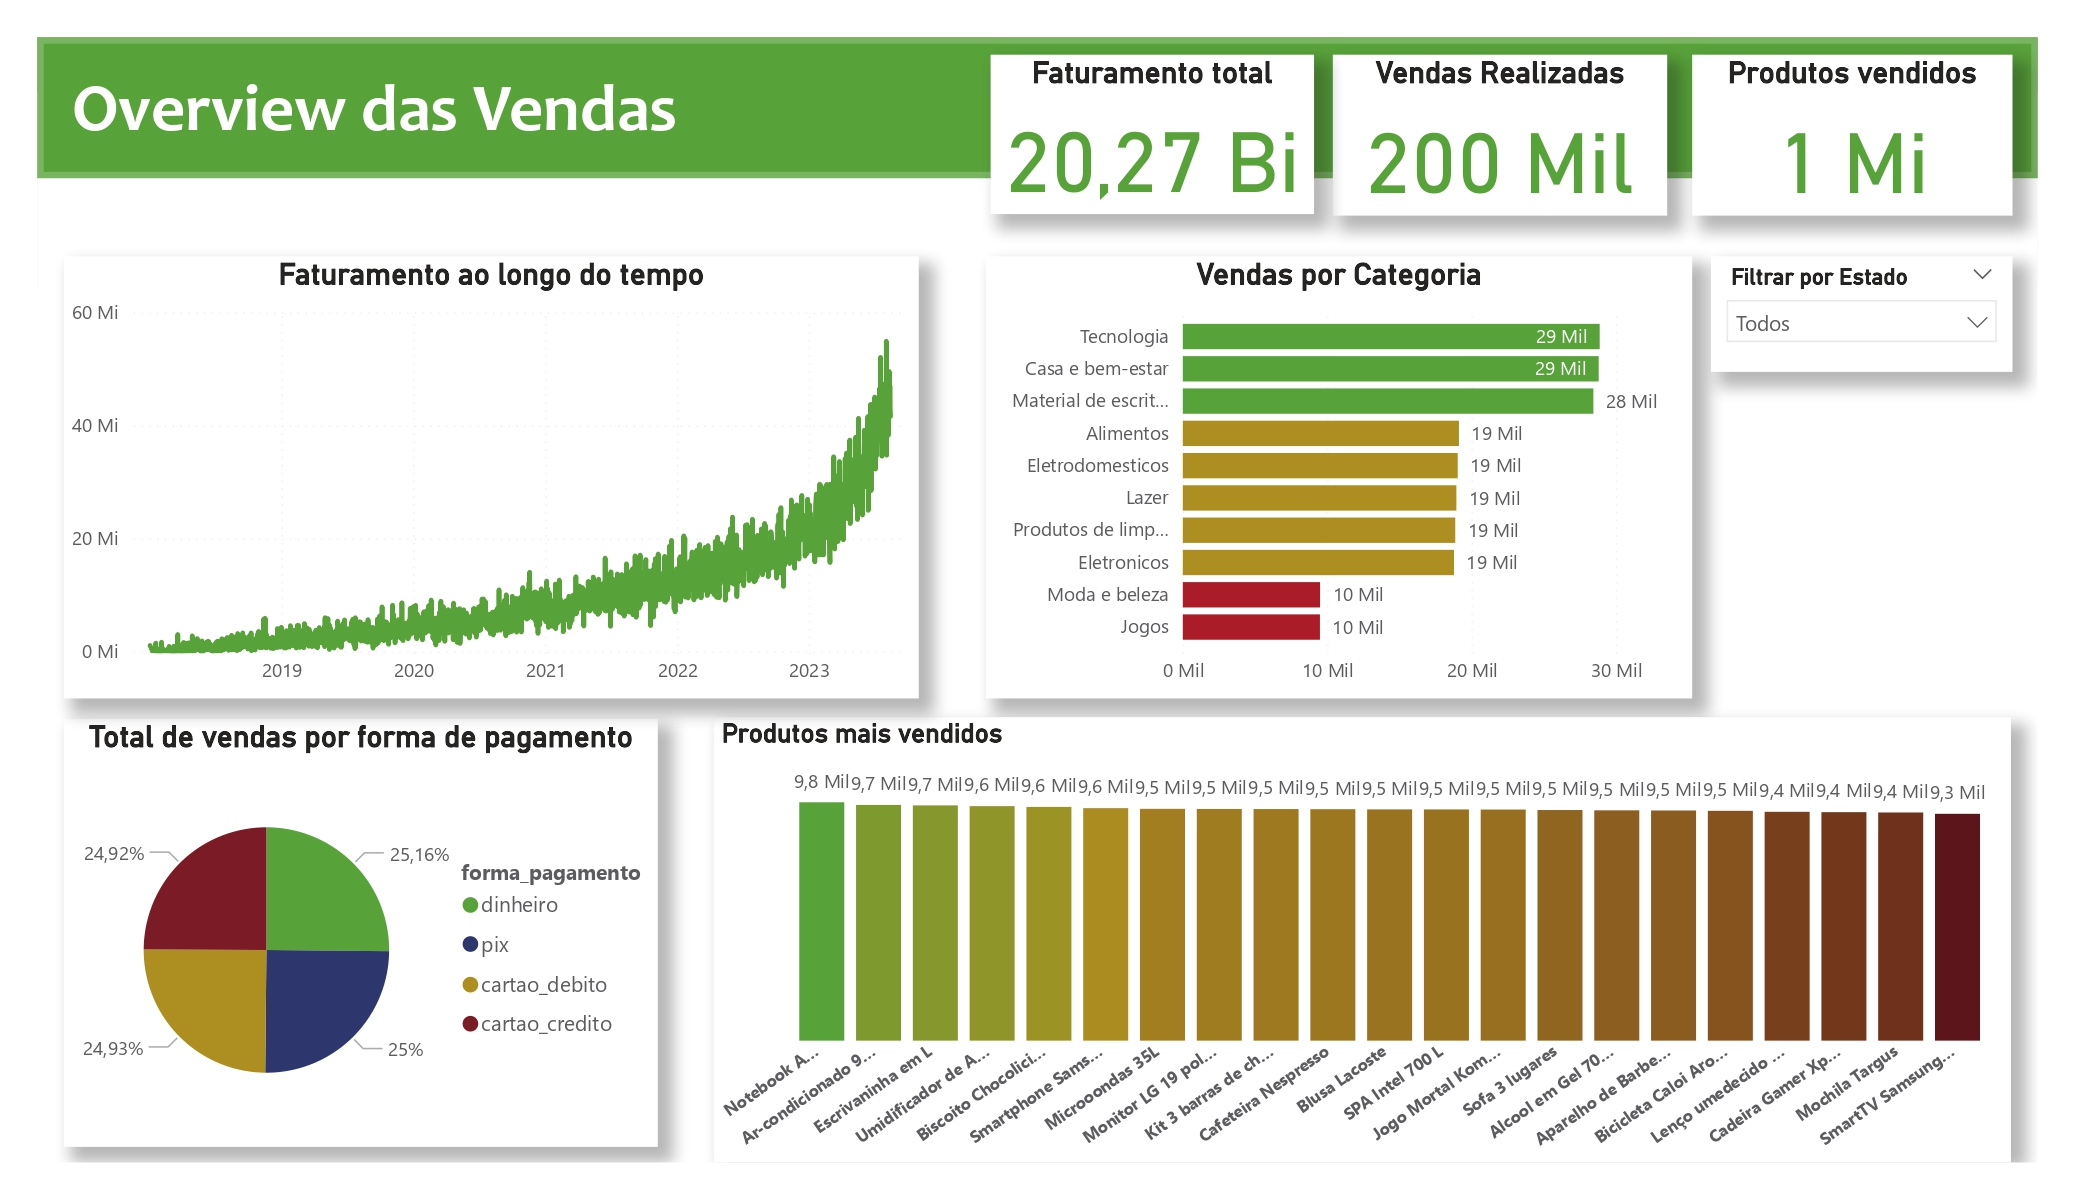

This screenshot's page, from the dashboard's own definition file:
{"tool":"powerbi","page":{"name":"Vendas","canvas":[1280,720],"ordinal":1},"visuals":[{"type":"shape","box":[0,0,1280,90],"z":0},{"type":"pieChart","title":"Total de vendas por forma de pagamento","fields":{"Category":["public vendas.forma_pagamento"],"Y":["public produtos.VendasRealizadas"]},"box":[17.1,435.7,380,274.3],"z":1000},{"type":"barChart","title":"Vendas por Categoria","fields":{"Category":["public produtos.categoria_produto"],"Y":["public produtos.VendasRealizadas"]},"box":[607.1,140,451.4,282.9],"z":2000},{"type":"card","title":"Vendas Realizadas","fields":{"Values":["public produtos.VendasRealizadas"]},"box":[828.6,11.4,214.3,102.9],"z":3000},{"type":"clusteredColumnChart","title":"Produtos mais vendidos","fields":{"Category":["public produtos.nome_produto"],"Y":["public produtos.QuantidadeVendas"]},"box":[433.3,435,830,285],"z":4000},{"type":"card","title":"Faturamento total","fields":{"Values":["public produtos.TotalVendas"]},"box":[610,11.4,207.1,102],"z":5000},{"type":"card","title":"Produtos vendidos","fields":{"Values":["Sum(public vendas.quantidade)"]},"box":[1058.6,11.4,205.7,102.9],"z":6000},{"type":"lineChart","title":"Faturamento ao longo do tempo","fields":{"Y":["Sum(public vendas.valor_compra)"],"Category":["public vendas.data_compra.Variation.Hierarquia de datas.Ano","public vendas.data_compra.Variation.Hierarquia de datas.Trimestre","public vendas.data_compra.Variation.Hierarquia de datas.Mês","public vendas.data_compra.Variation.Hierarquia de datas.Dia"]},"box":[17.1,140,547.1,282.9],"z":7000},{"type":"slicer","fields":{"Values":["public usuarios.estado"]},"box":[1071.4,140,192.9,74.3],"z":8000},{"type":"textbox","box":[16.7,13.3,486.7,76.7],"z":9000}]}

Visuals, with their boxes in screenshot pixels (x1, y1, x2, y2):
shape: [38, 38, 2038, 178]
"Total de vendas por forma de pagamento" pieChart: [64, 718, 658, 1147]
"Vendas por Categoria" barChart: [986, 256, 1691, 698]
"Vendas Realizadas" card: [1332, 55, 1667, 216]
"Produtos mais vendidos" clusteredColumnChart: [715, 717, 2011, 1162]
"Faturamento total" card: [991, 55, 1314, 215]
"Produtos vendidos" card: [1692, 55, 2013, 216]
"Faturamento ao longo do tempo" lineChart: [64, 256, 919, 698]
slicer - public usuarios.estado: [1712, 256, 2013, 372]
textbox: [64, 58, 824, 178]
